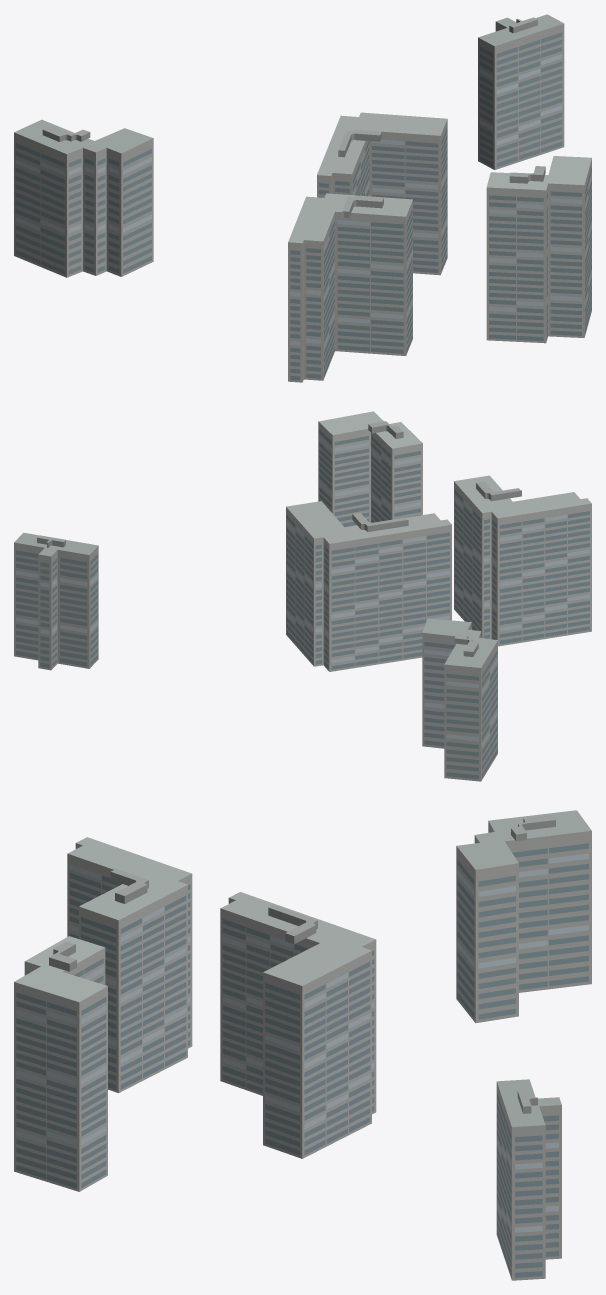
The model's file is apt-a14007001.glb.
3 renders of one model, top to bottom at view 1: azimuth 30°, elevation 25°; view 2: azimuth 150°, elevation 25°; view 3: azimuth 270°, elevation 25°, orthographic. The views are drawn at different scales.
Visible parts, largest first — view 1: apt-a14007001; view 2: apt-a14007001; view 3: apt-a14007001.
Boxes of the visible parts, <box> form: apt-a14007001: <box>14,14,591,382</box>; apt-a14007001: <box>14,411,591,781</box>; apt-a14007001: <box>14,810,591,1280</box>.
Size of the model in its own units: 203 by 59 by 156.
